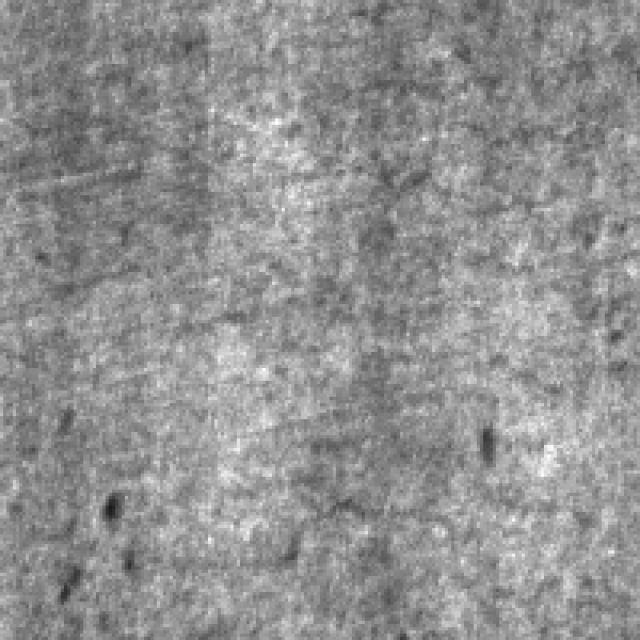crazing: (163, 470, 592, 624)
